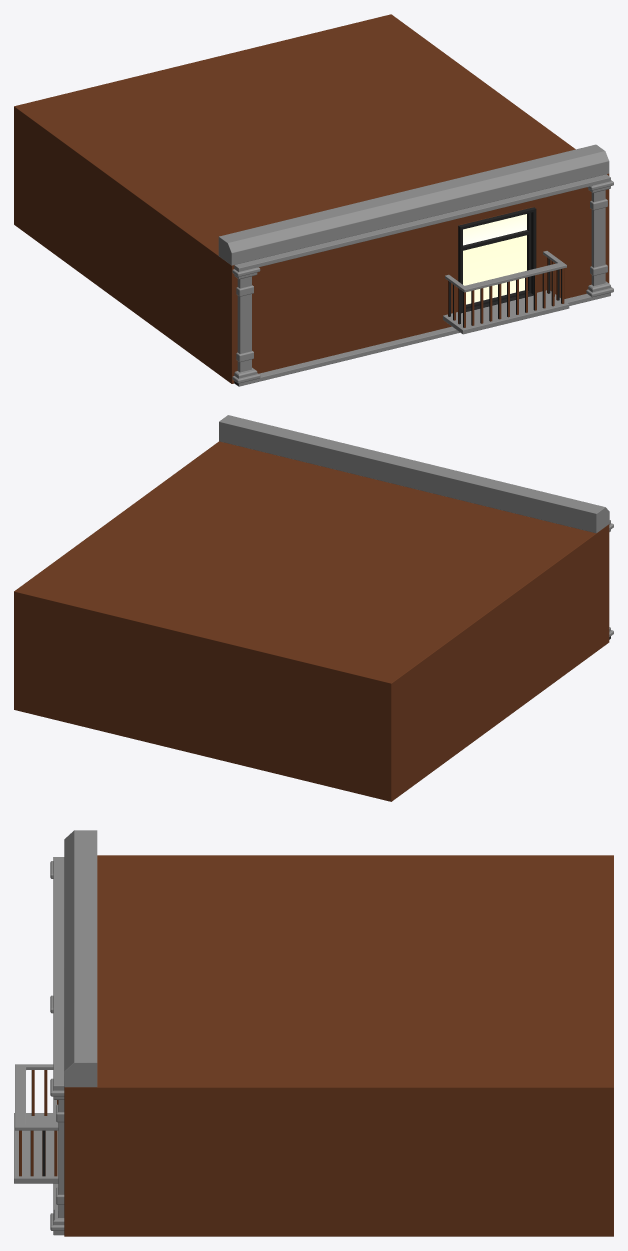
Rendered from Building3 top.fbx.
3 views of the same model, one above another, from view 1: azimuth 30°, elevation 25°; view 2: azimuth 150°, elevation 25°; view 3: azimuth 270°, elevation 25° (orthographic). The views are drawn at different scales.
Visible parts, largest first — view 1: MIDDLE BUILDING 2 TOP; view 2: MIDDLE BUILDING 2 TOP; view 3: MIDDLE BUILDING 2 TOP.
Part boxes in pixels (box(x1,y1,x2,y2)): MIDDLE BUILDING 2 TOP: box(14, 14, 613, 386); MIDDLE BUILDING 2 TOP: box(14, 415, 613, 801); MIDDLE BUILDING 2 TOP: box(14, 830, 613, 1236).
Bounding box in the file's own units: 1000 × 350 × 1092.
